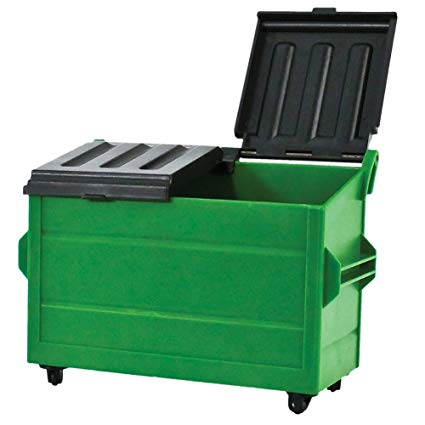Dumpster: (16, 6, 392, 419)
